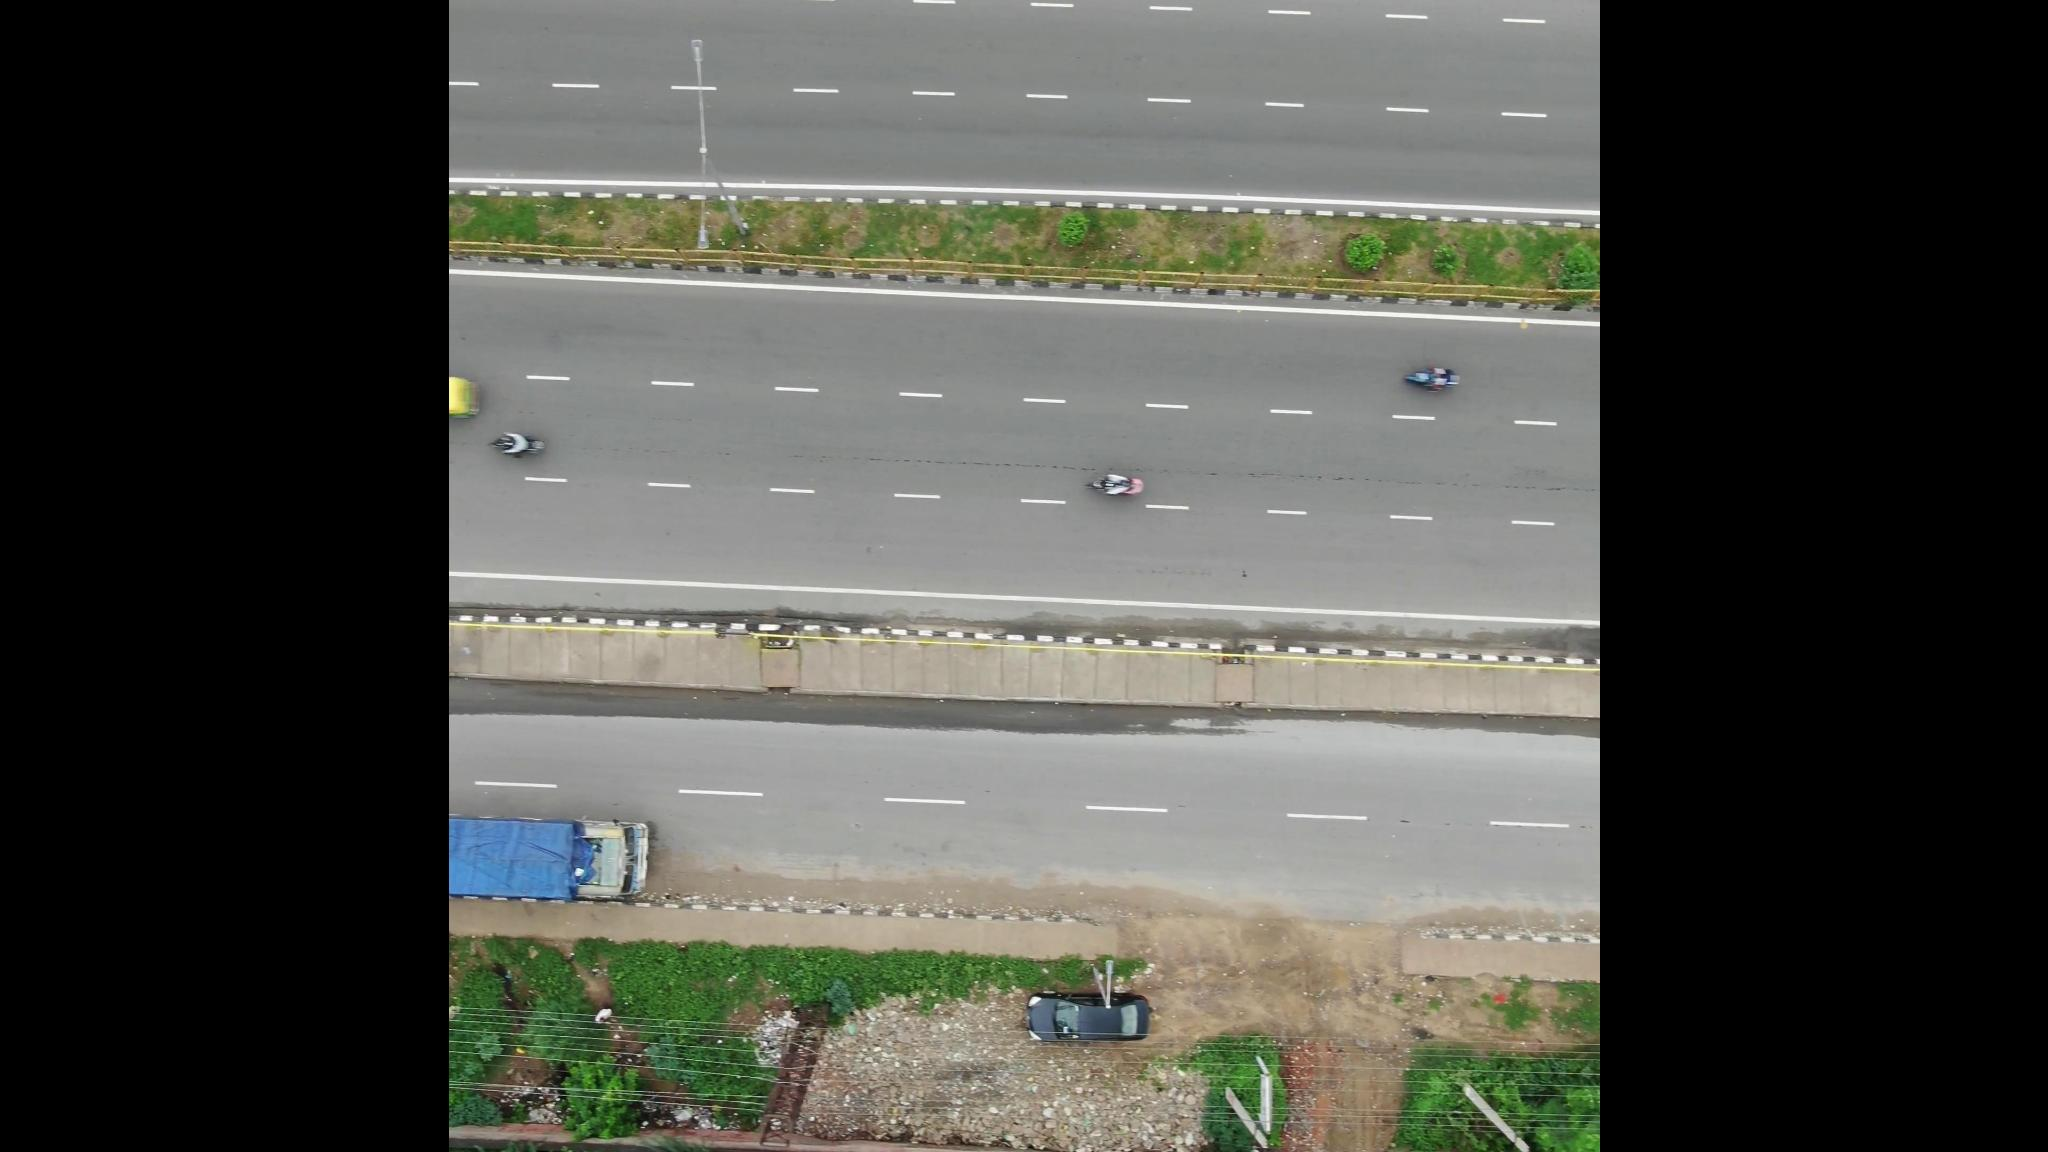Muddy_road: (655, 866, 1032, 913)
